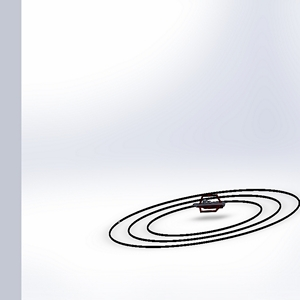circle: (102, 182, 300, 254)
submarine: (190, 190, 230, 221)
